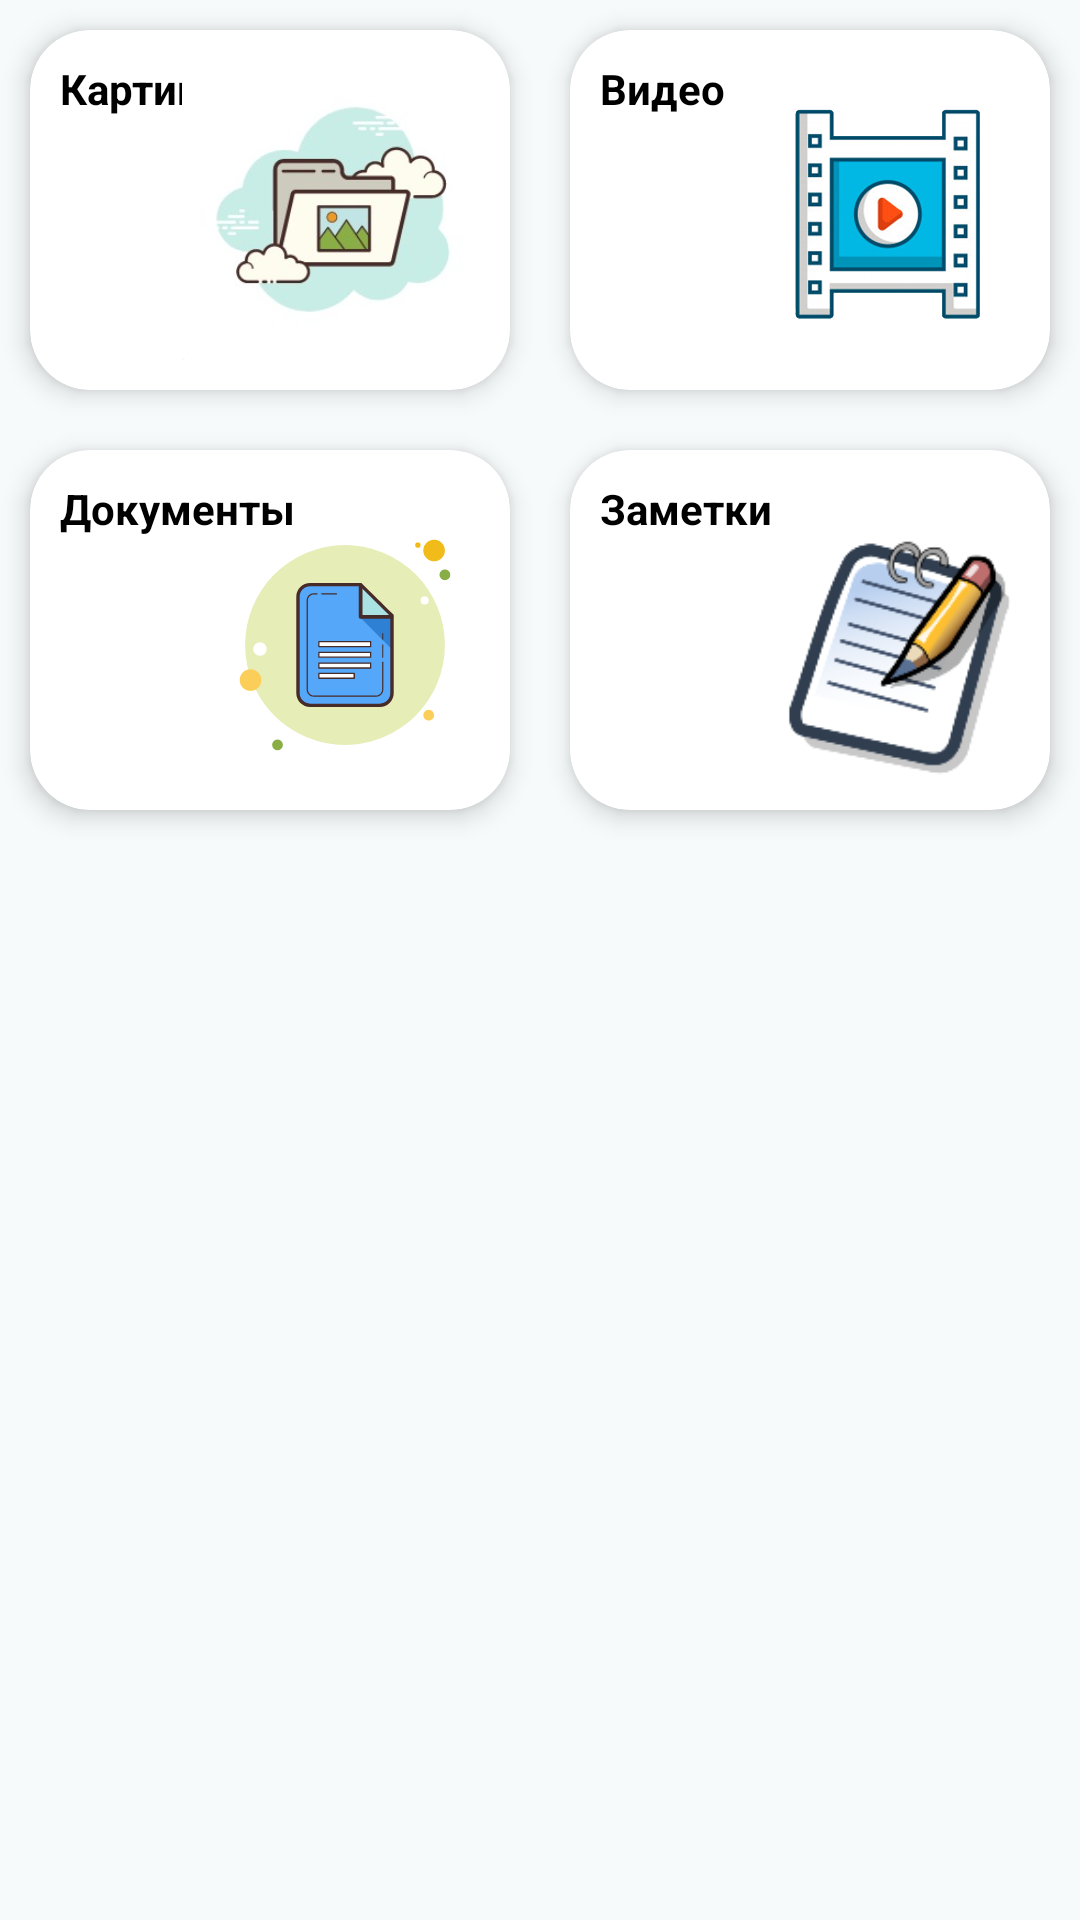

Icon bounding boxes for this 1080×1920 phone screenshot, format bbox=[x1, y1, x2, y2]:
family videos: bbox=[795, 109, 980, 319]
